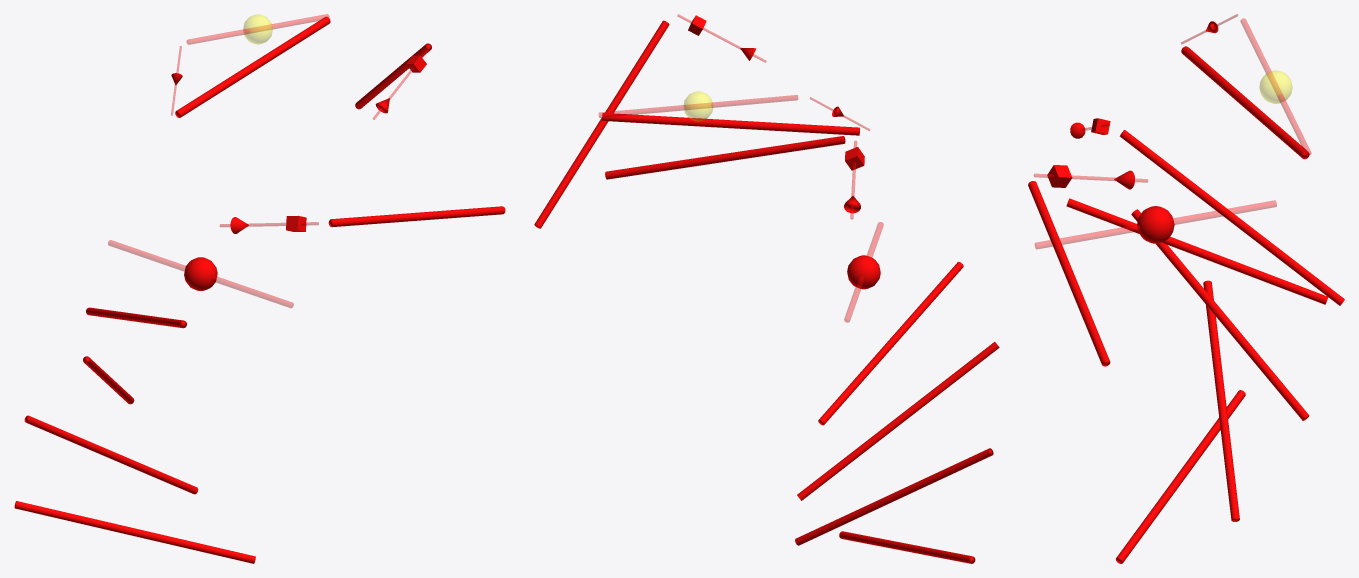
File: candidate.gltf
The picture shows the model from 3 angles, left to right: view 1: azimuth 30°, elevation 25°; view 2: azimuth 150°, elevation 25°; view 3: azimuth 270°, elevation 25°; orthographic projection. The views are drawn at different scales.
Bounding box in the file's own units: 27.08 × 29.06 × 15.45.
